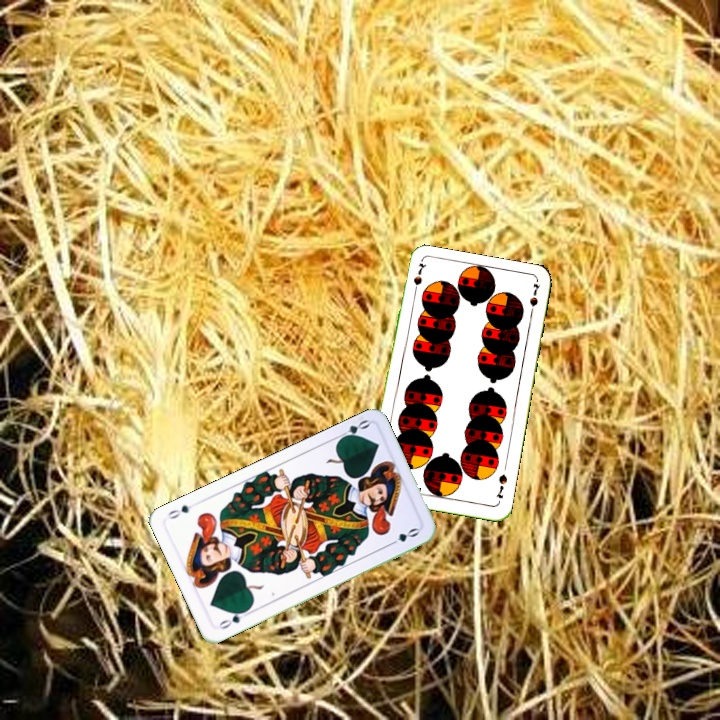GO: (333, 415, 372, 443), (214, 606, 252, 632)
S7: (409, 259, 427, 299), (492, 470, 510, 501)
